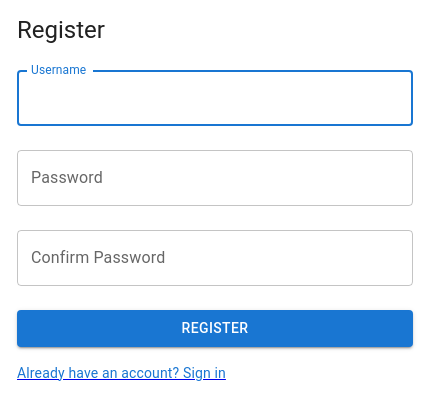
Test: RegisterForm › not register user with invalid password
Expected: the heading "Register" is shown, [17, 16, 105, 44]
In the field labelled "Username": (215, 98) [17, 70, 413, 126], type "test"
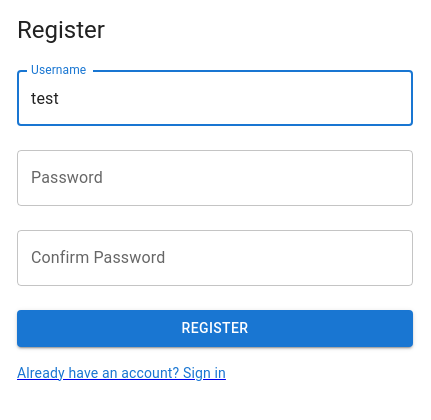
In the password field labelled "Password": (215, 178) [17, 150, 413, 206], type "short"
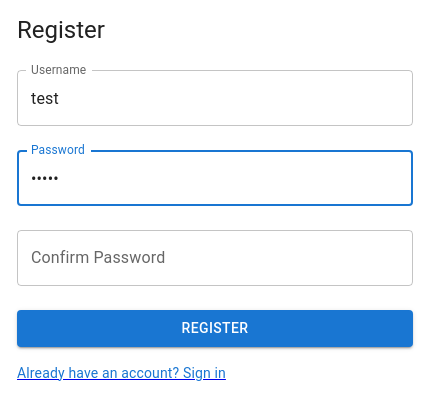
In the password field labelled "Confirm Password": (215, 258) [17, 230, 413, 286], type "short"
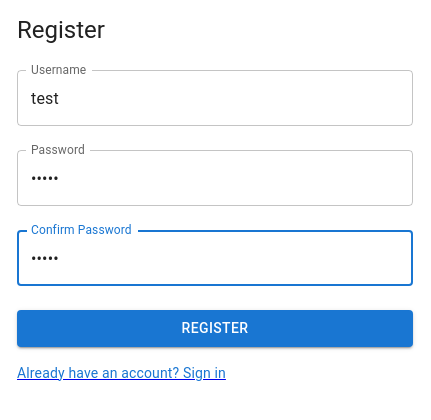
Click the button "Register": (215, 328) [17, 310, 413, 346]
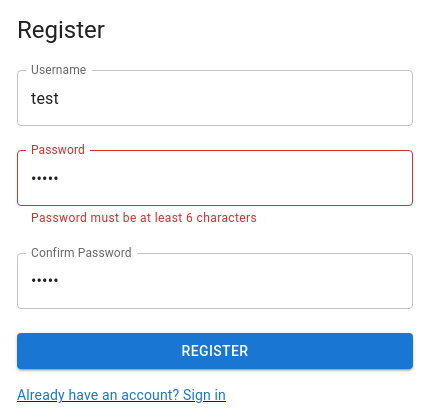
Expected: the text "Password must be at least 6 characters" is shown, [31, 211, 257, 225]
